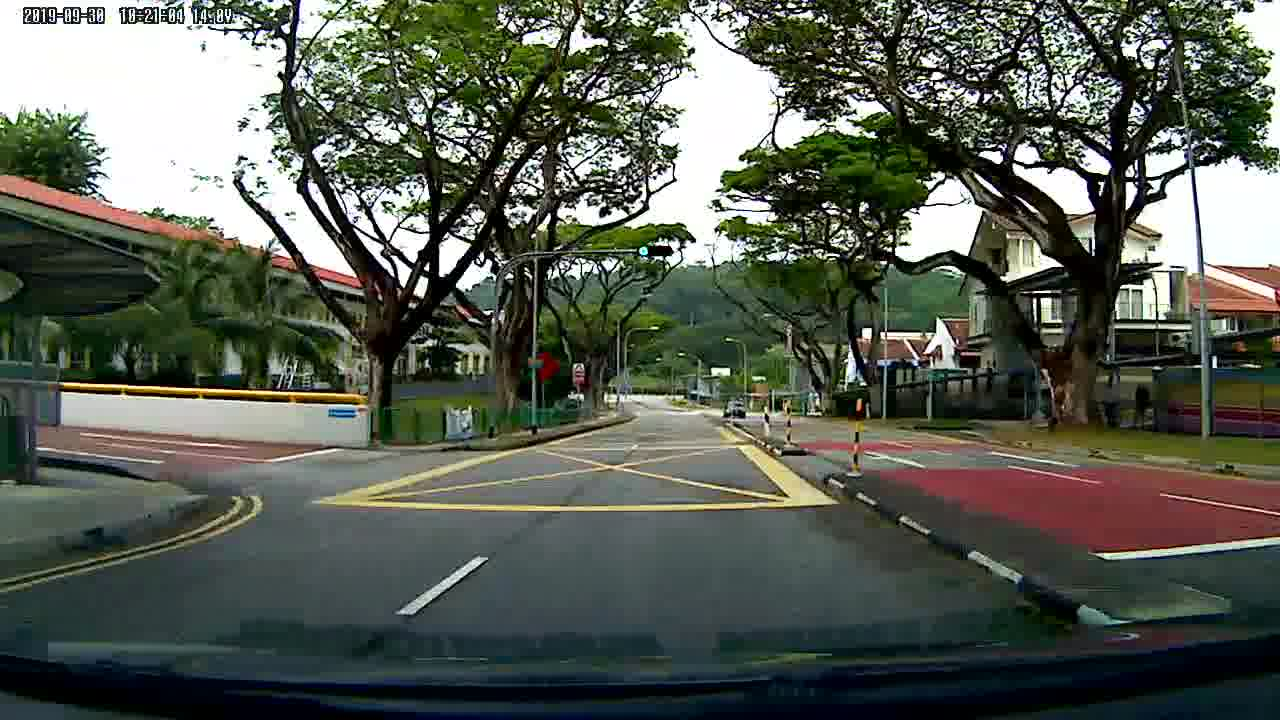car: (720, 398, 750, 420)
